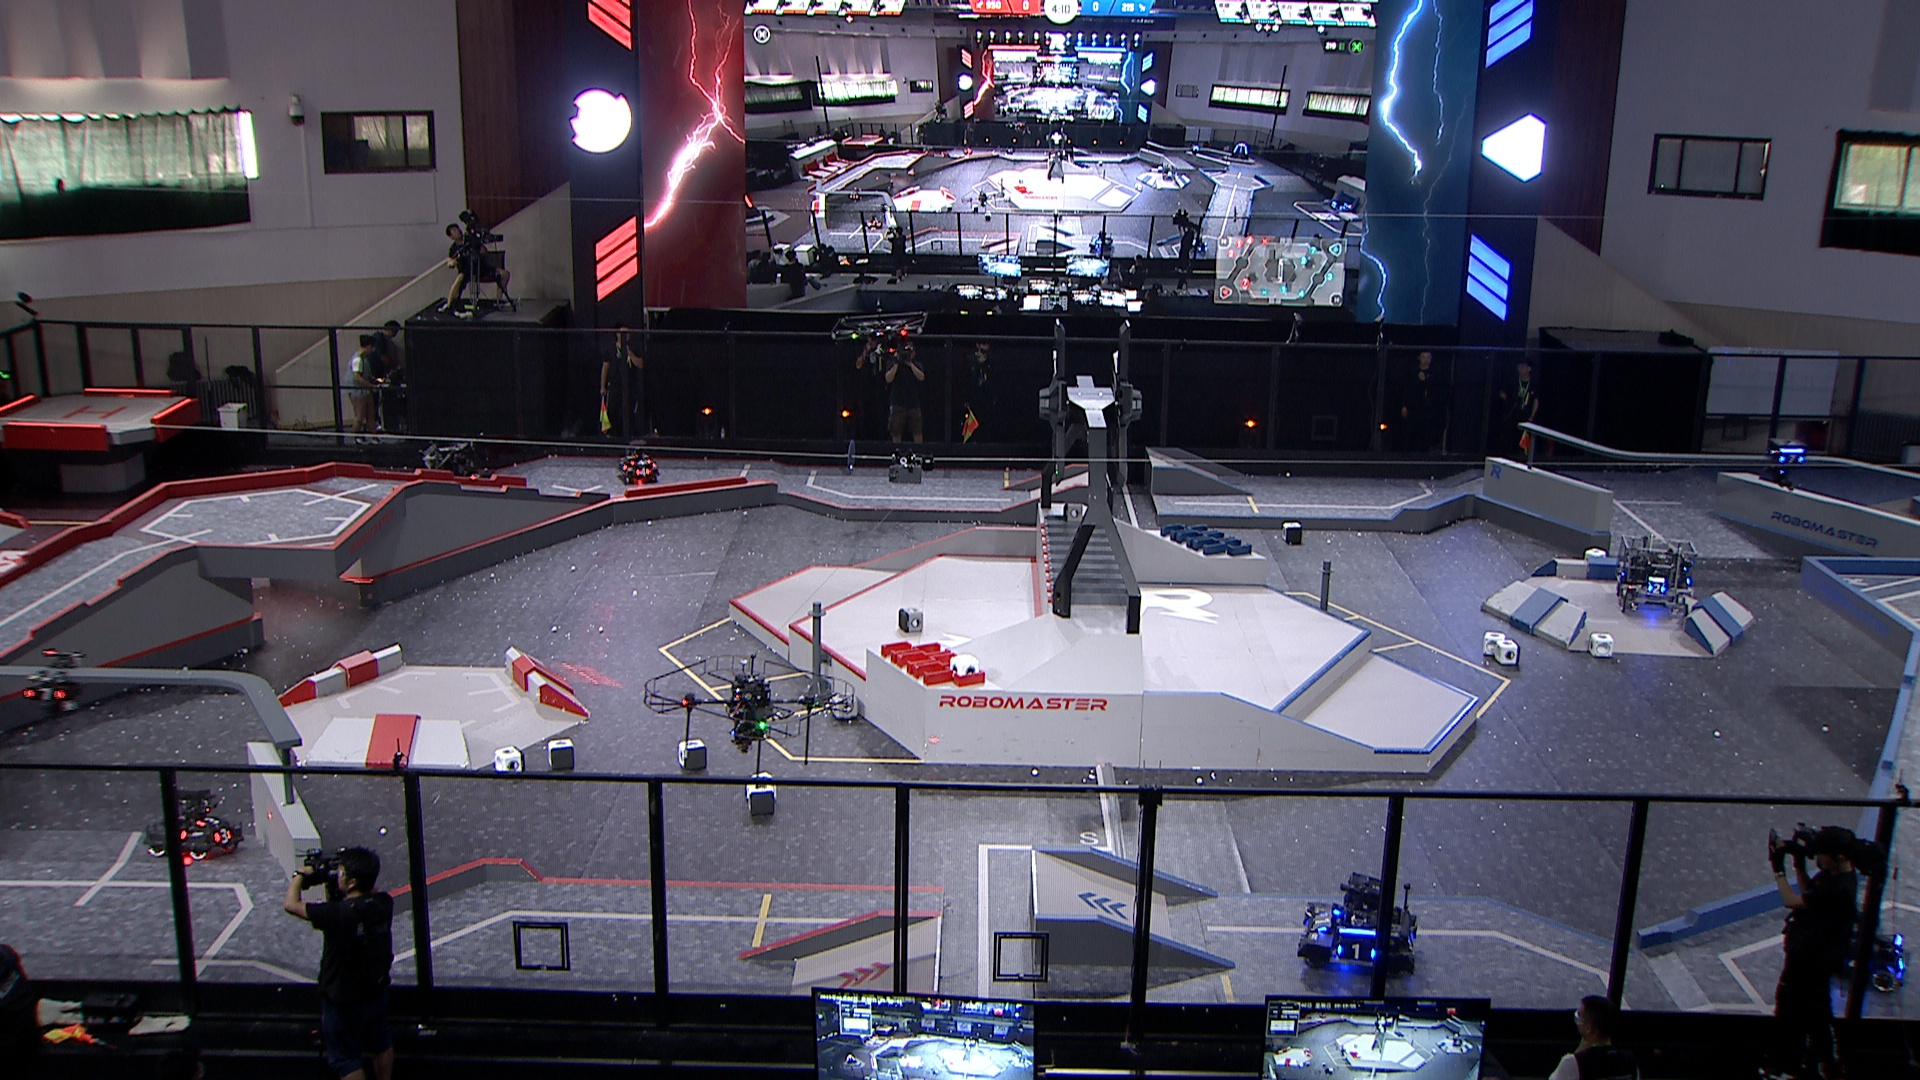armor: (1335, 942, 1379, 963), (22, 687, 69, 703), (212, 825, 233, 847), (1313, 913, 1332, 936), (1403, 931, 1419, 956), (196, 814, 224, 827), (1778, 454, 1807, 465), (1647, 583, 1667, 597), (636, 465, 654, 480), (629, 458, 654, 467)
car: (1295, 874, 1420, 977), (1799, 899, 1909, 998), (144, 785, 247, 864), (1615, 531, 1700, 618), (422, 440, 495, 501), (617, 436, 659, 487)
ignore: (1088, 232, 1116, 255), (744, 194, 760, 222), (1189, 237, 1211, 256), (1229, 142, 1250, 160), (1158, 164, 1178, 181), (1332, 196, 1349, 214), (865, 215, 884, 229), (849, 185, 862, 204), (960, 145, 975, 157), (1189, 144, 1201, 157)
watcher: (21, 650, 87, 713), (1766, 439, 1807, 491)
